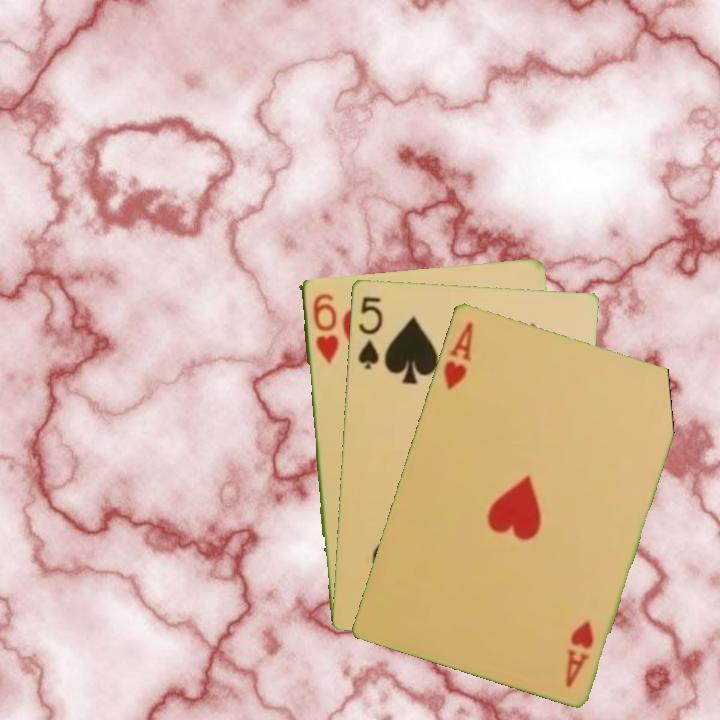5s: (354, 293, 385, 372)
6h: (309, 289, 341, 367)
Ah: (439, 318, 476, 392), (561, 617, 597, 690)
